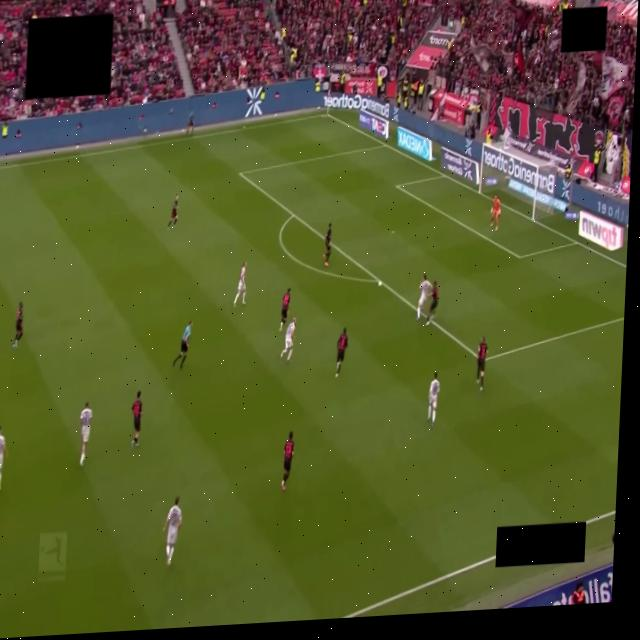ball: (377, 281, 381, 287)
player: (163, 497, 181, 565), (281, 431, 295, 491), (79, 402, 91, 466), (280, 318, 295, 362), (417, 274, 431, 320), (131, 391, 142, 448), (427, 373, 439, 425), (335, 329, 347, 378), (426, 281, 439, 326), (233, 263, 246, 306), (12, 302, 24, 348), (476, 337, 486, 390), (279, 288, 291, 331), (167, 195, 178, 228), (323, 224, 331, 267), (491, 195, 500, 231), (0, 428, 5, 482)
referee: (172, 321, 192, 368)
